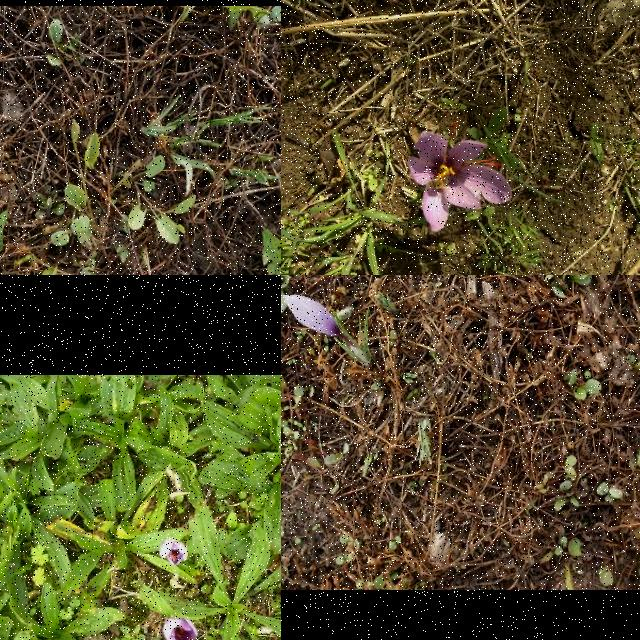flower: (408, 121, 512, 233), (283, 294, 345, 340), (163, 617, 198, 640), (160, 538, 188, 566)
